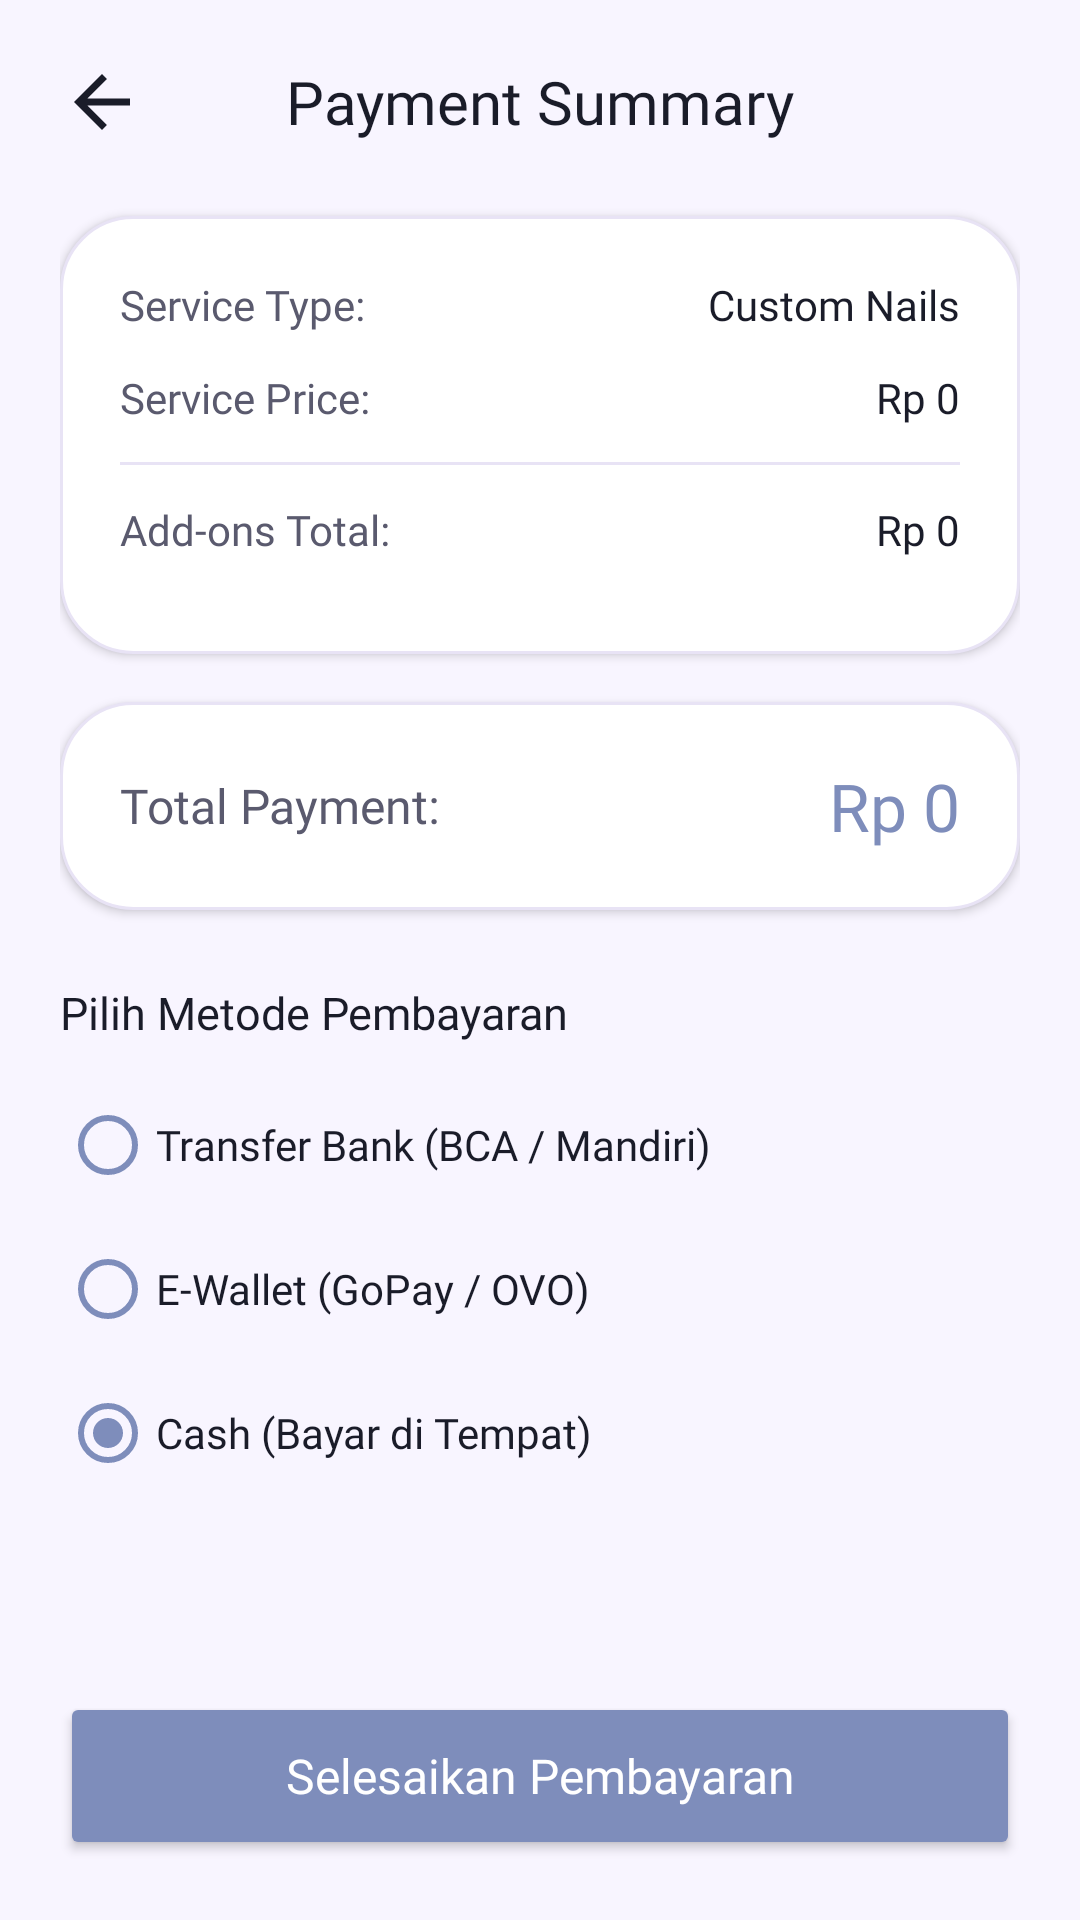

Named icons in this screenshot (1080px×1920px) and their bounding boxes, (x1, y1, x2, y2):
back: (74, 74, 130, 130)
